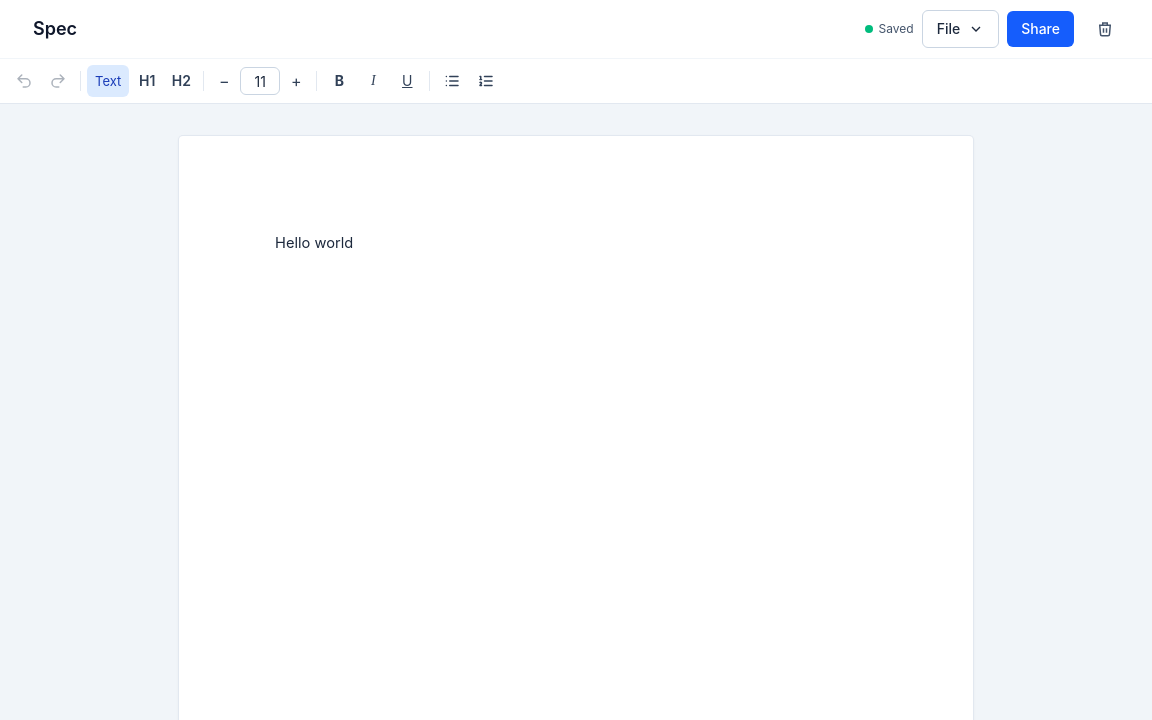
Test: DocumentEditor › shows a save error with retry when the database rejects the write
The image size is (1152, 720).
Type "!" into the field named "Document title". click: (438, 29)
box: [24,10,852,48]
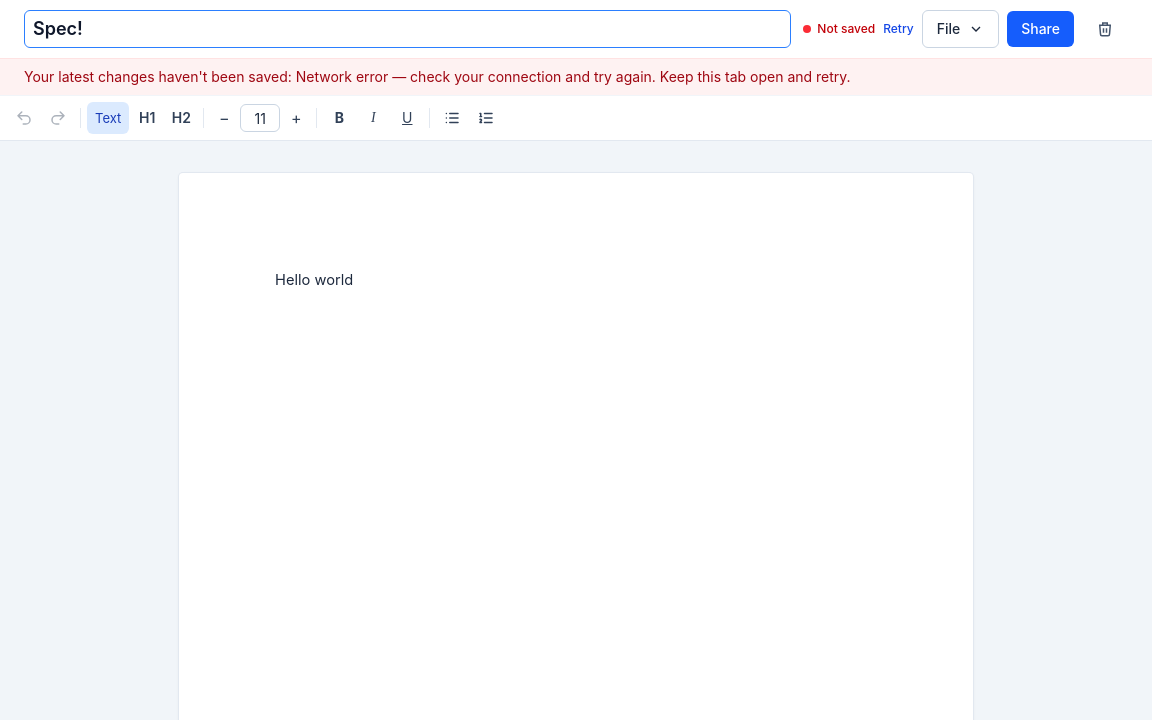
Check: the message "Not saved" is shown, box [803,21,875,37]
Check: the message that starts with "Your latest changes haven't been saved:" is shown, box [24,68,296,85]
Check: the button "Retry" is shown, box [883,21,914,37]
